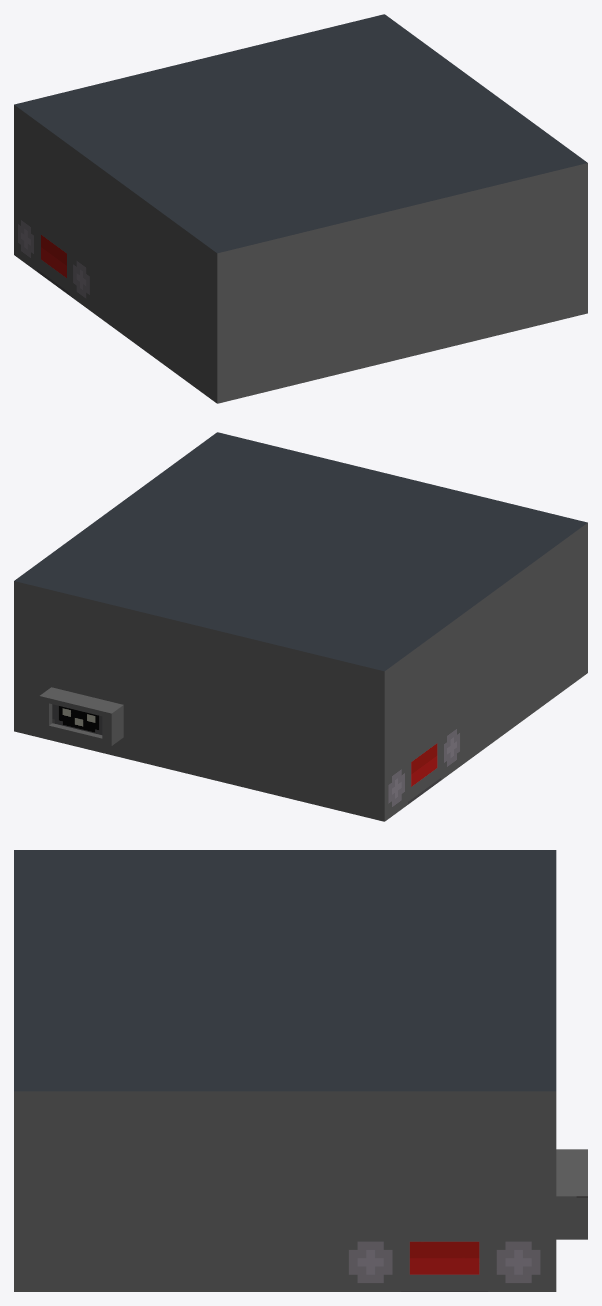
The model's file is Fonte_P.fbx.
The picture shows the model from 3 angles, top to bottom: view 1: azimuth 30°, elevation 25°; view 2: azimuth 150°, elevation 25°; view 3: azimuth 270°, elevation 25°; orthographic projection. The views are drawn at different scales.
Parts seen in each view (by area): view 1: Fonte.P; view 2: Fonte.P; view 3: Fonte.P.
Part boxes in pixels (left/top/right/bottom): Fonte.P: left=14, top=14, right=587, bottom=403; Fonte.P: left=14, top=432, right=587, bottom=821; Fonte.P: left=14, top=850, right=587, bottom=1291.
Bounding box in the file's own units: 610 × 237 × 614.
